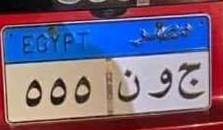5: (21, 78, 46, 109), (74, 74, 97, 106), (49, 77, 70, 108)
jeem: (178, 59, 203, 102)
noon: (116, 64, 141, 106)
waw: (149, 63, 174, 102)
